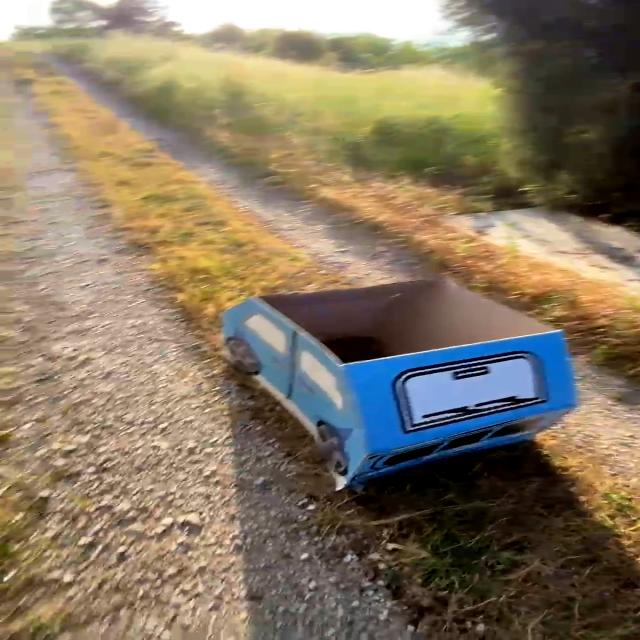blue_car: (171, 246, 624, 505)
